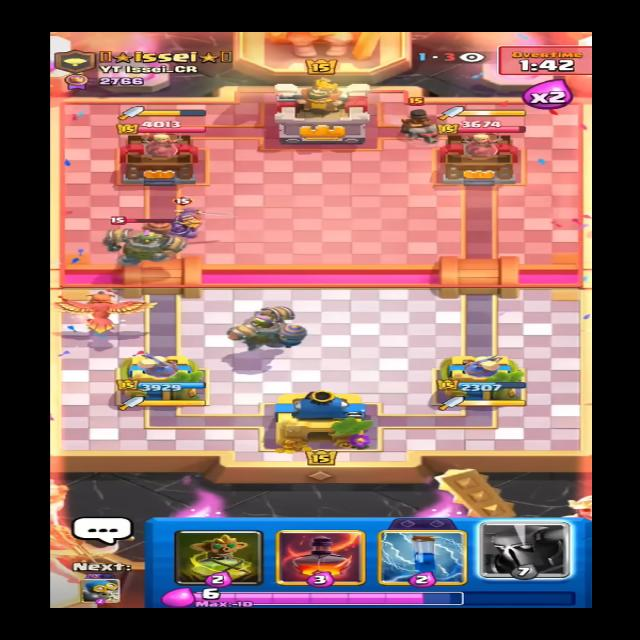EvoKnight: (156, 190, 230, 240)
Goblinmachine: (105, 216, 188, 272)
Ramrider: (395, 99, 440, 143)
